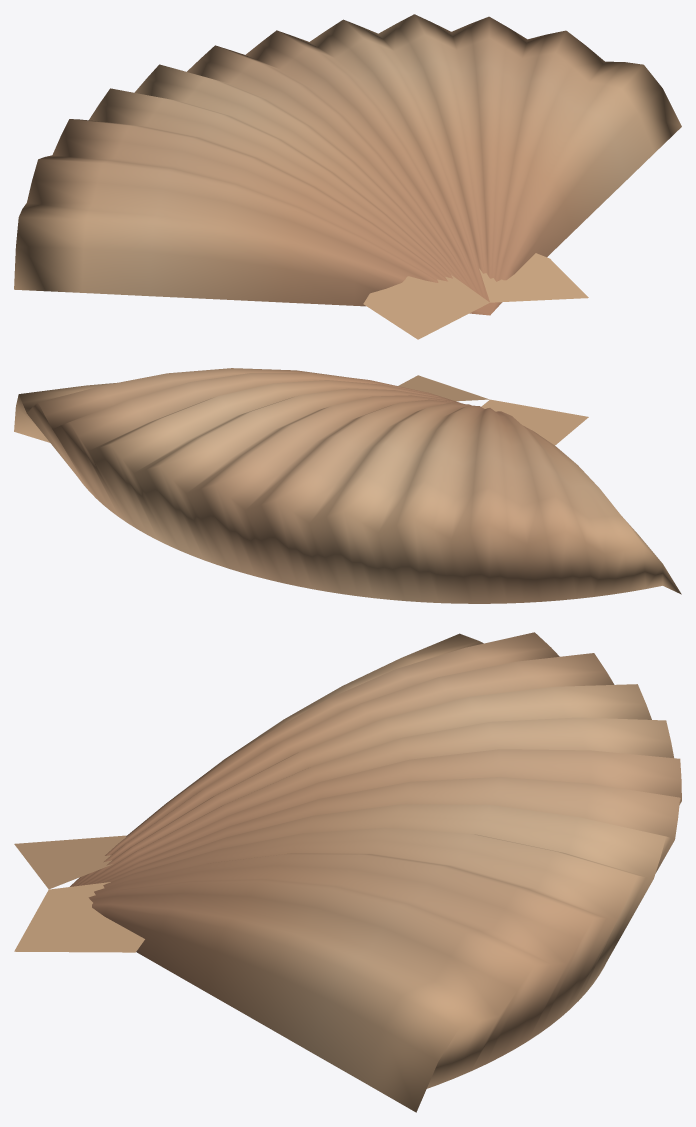
Rendered from node-shell-v2.glb.
The picture shows the model from 3 angles, top to bottom: view 1: azimuth 30°, elevation 25°; view 2: azimuth 150°, elevation 25°; view 3: azimuth 270°, elevation 25°; orthographic projection. The views are drawn at different scales.
Parts seen in each view (by area): view 1: 0_shell; view 2: 0_shell; view 3: 0_shell.
Boxes of the visible parts, bbox=[...] form: 0_shell: bbox=[14, 14, 681, 339]; 0_shell: bbox=[14, 368, 681, 603]; 0_shell: bbox=[14, 632, 681, 1112].
Size of the model in its own units: 0.4466 by 0.0748 by 0.2992.
